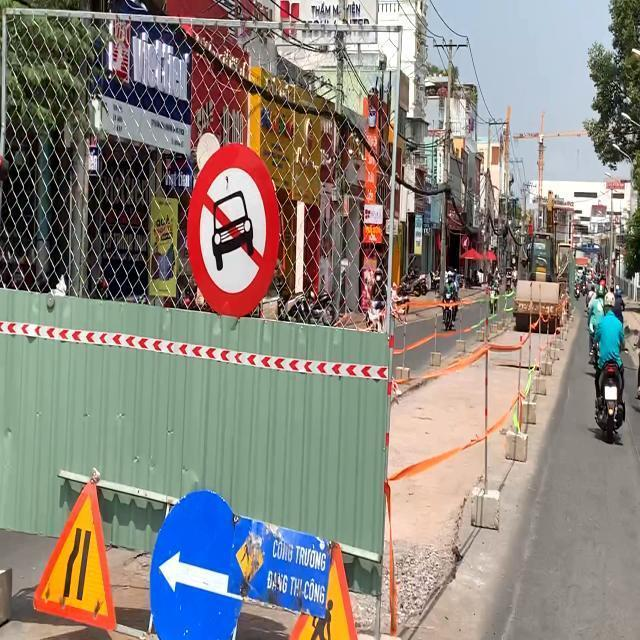103a-cam-oto: (184, 143, 280, 317)
203-duong-bi-hep: (32, 480, 120, 632)
227-cong-truong: (284, 540, 364, 640)
301c-cac-xe-chi-duoc-re-trai: (146, 492, 244, 640)
